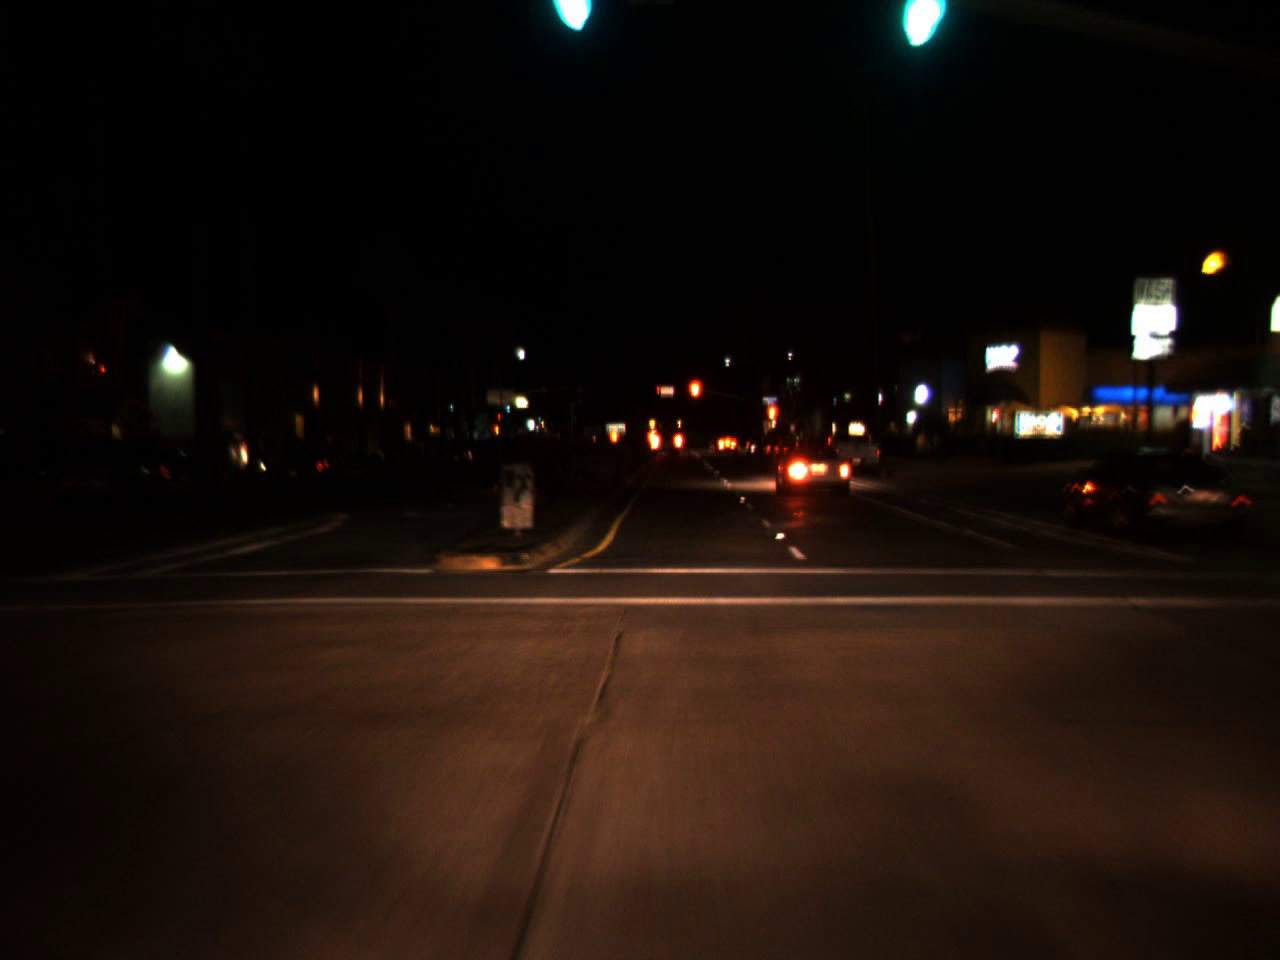go: (894, 0, 937, 48), (545, 0, 595, 42)
stop: (686, 377, 703, 419), (765, 402, 780, 442), (655, 385, 661, 398)
